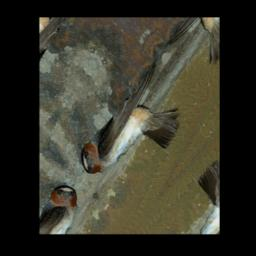Swallow: (74, 53, 199, 210)
